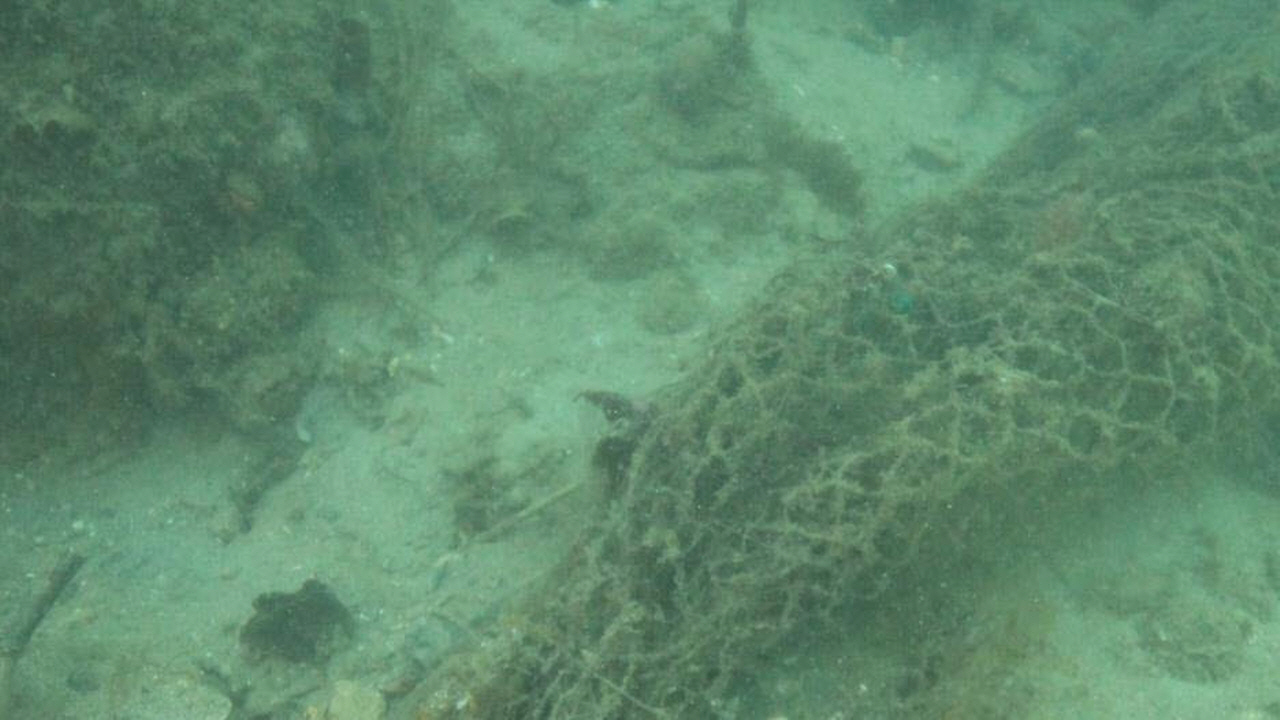fish net: (500, 0, 1280, 720)
